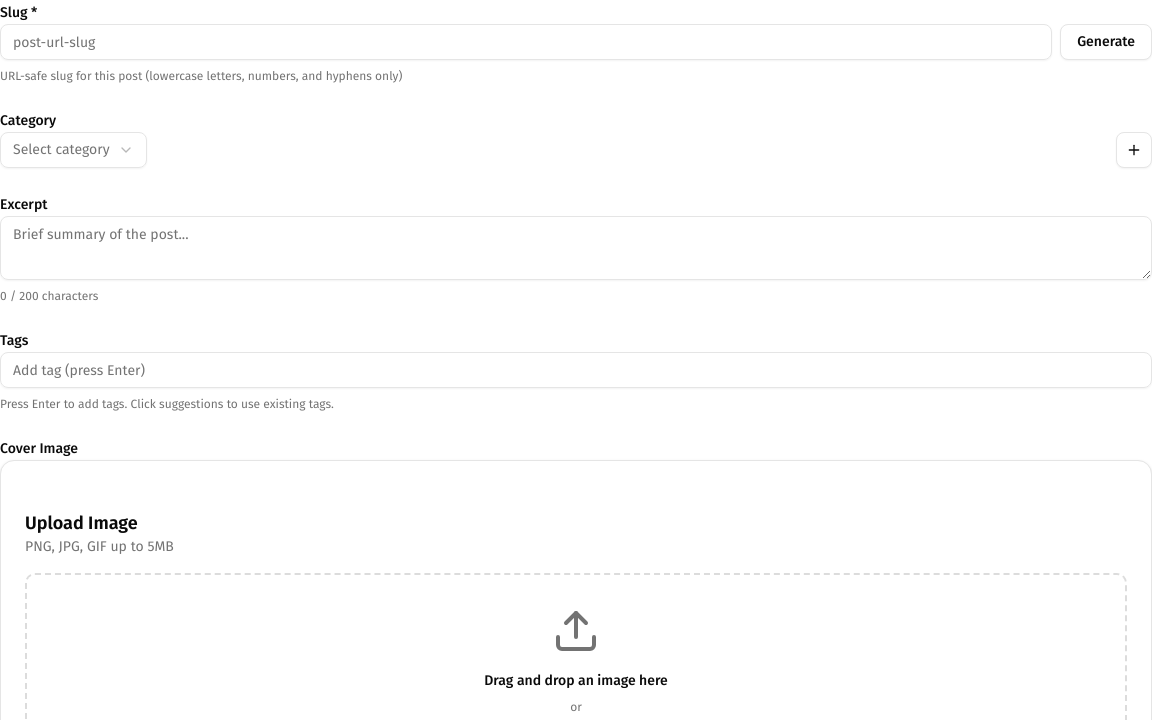
Test case: BlogPostMetadata › Category Management › should provide create new category option
Click the button titled "create category". click: [1134, 150]
box: [1116,132,1151,168]
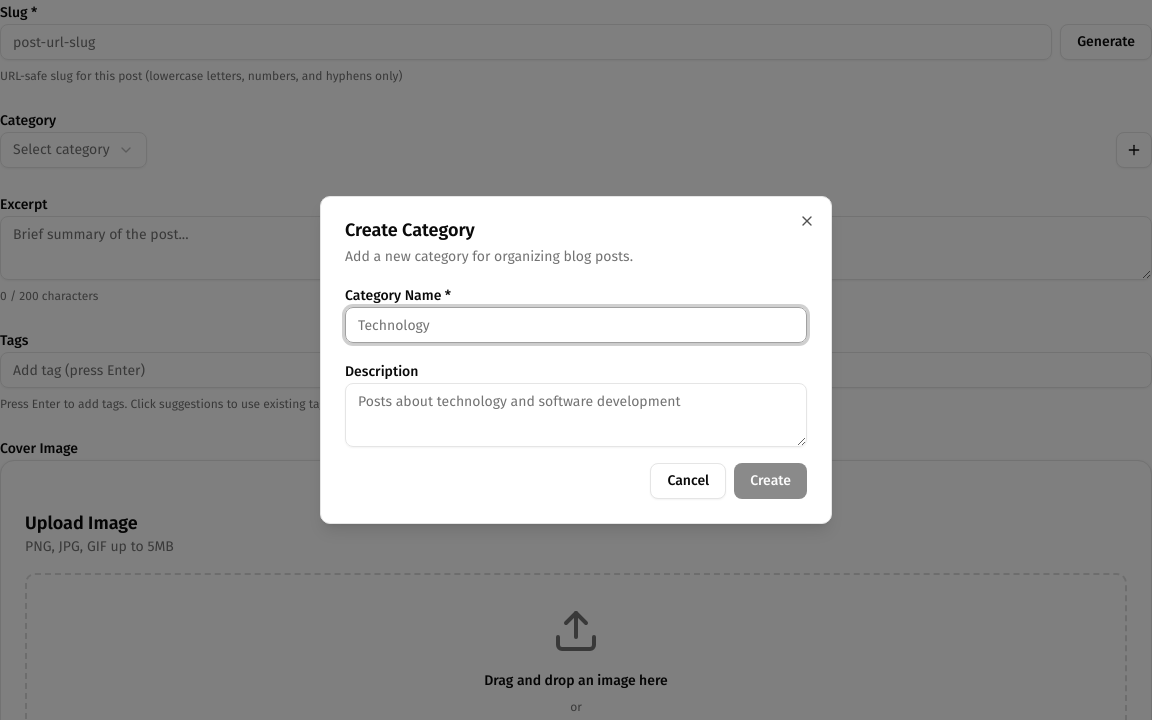
Now the heading "Create Category" is shown, box [345,219,475,241]
Now the field labelled "Category Name *" is shown, box [345,307,807,343]
